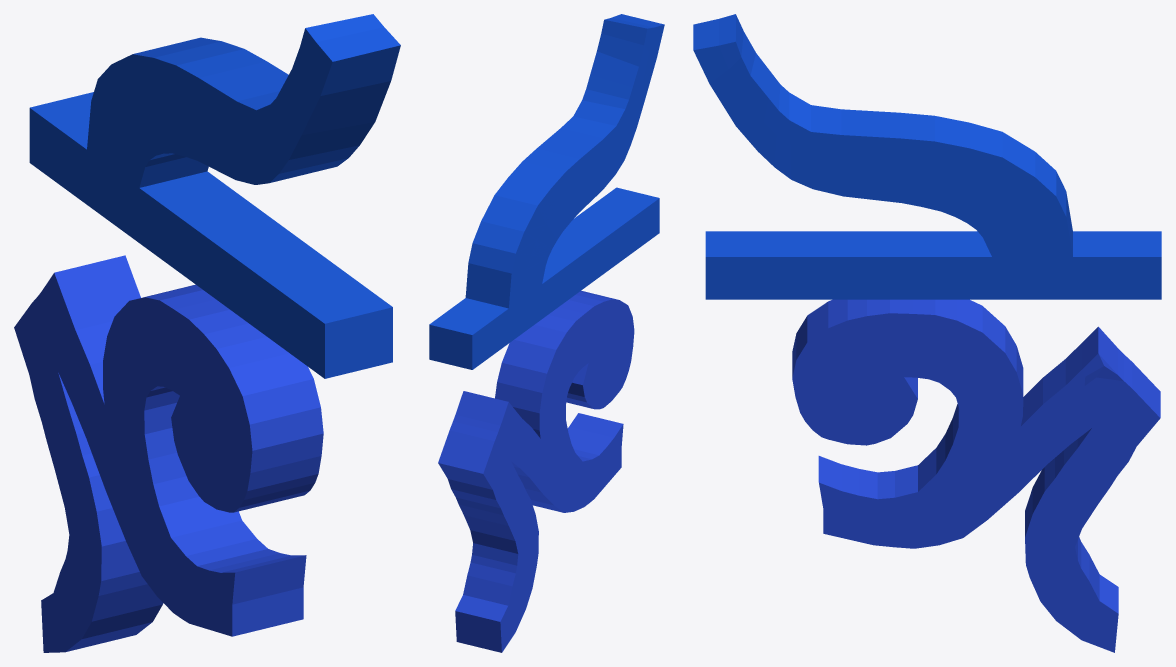
The picture shows the model from 3 angles, left to right: view 1: azimuth 30°, elevation 25°; view 2: azimuth 150°, elevation 25°; view 3: azimuth 270°, elevation 25°; orthographic projection. The views are drawn at different scales.
Parts seen in each view (by area): view 1: Cube.001, Cube; view 2: Cube.001, Cube; view 3: Cube.001, Cube.
Part boxes in pixels (left/top/right/bottom): Cube.001: left=14, top=255, right=323, bottom=652; Cube: left=29, top=14, right=400, bottom=378; Cube.001: left=438, top=290, right=634, bottom=652; Cube: left=429, top=14, right=664, bottom=369; Cube.001: left=792, top=299, right=1160, bottom=652; Cube: left=693, top=14, right=1161, bottom=299.
Size of the model in its own units: 129 by 1141 by 783.
